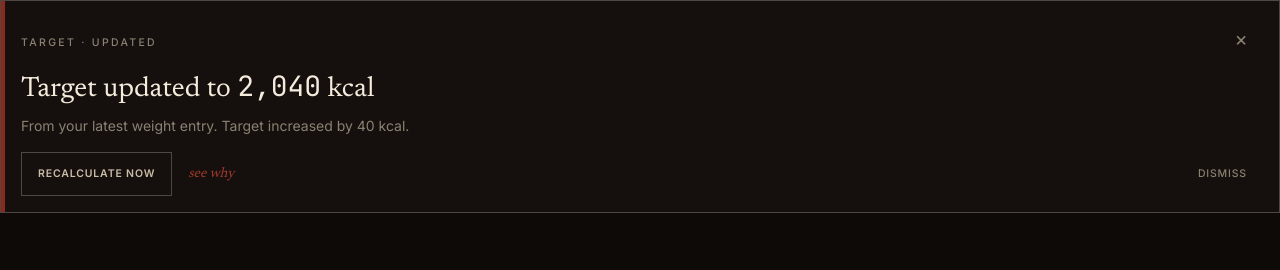
Test: <TargetUpdatedNudge /> › See why toggles howWeCalculated disclosure with aria-expanded
Click the button with test id "target-updated-nudge-see-why" at [211, 174], box left=188, top=152, right=234, bottom=196
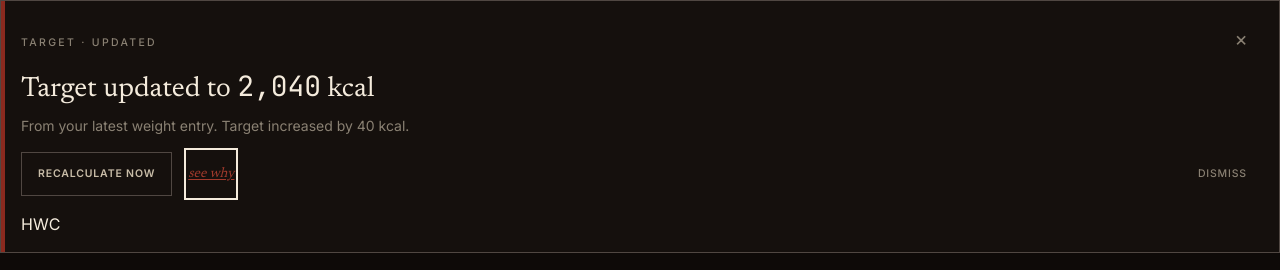
Result: the button with test id "target-updated-nudge-see-why" is expanded at left=188, top=152, right=234, bottom=196
Result: the text "HWC" is shown at left=21, top=214, right=60, bottom=234
